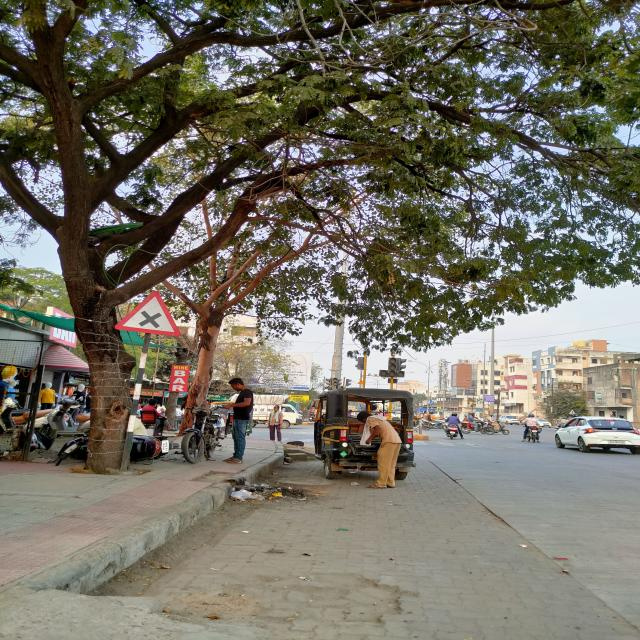CROSS_ROAD: (112, 287, 184, 339)
